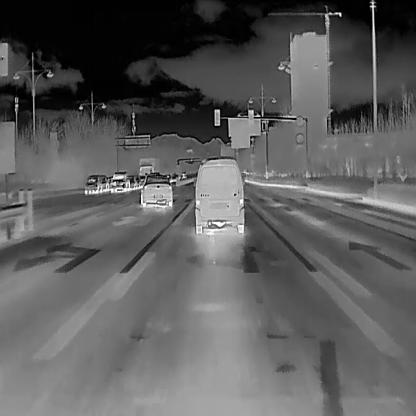car: (193, 156, 244, 233), (138, 172, 173, 207), (82, 173, 108, 194), (108, 169, 126, 192)
truck: (136, 155, 156, 177)
